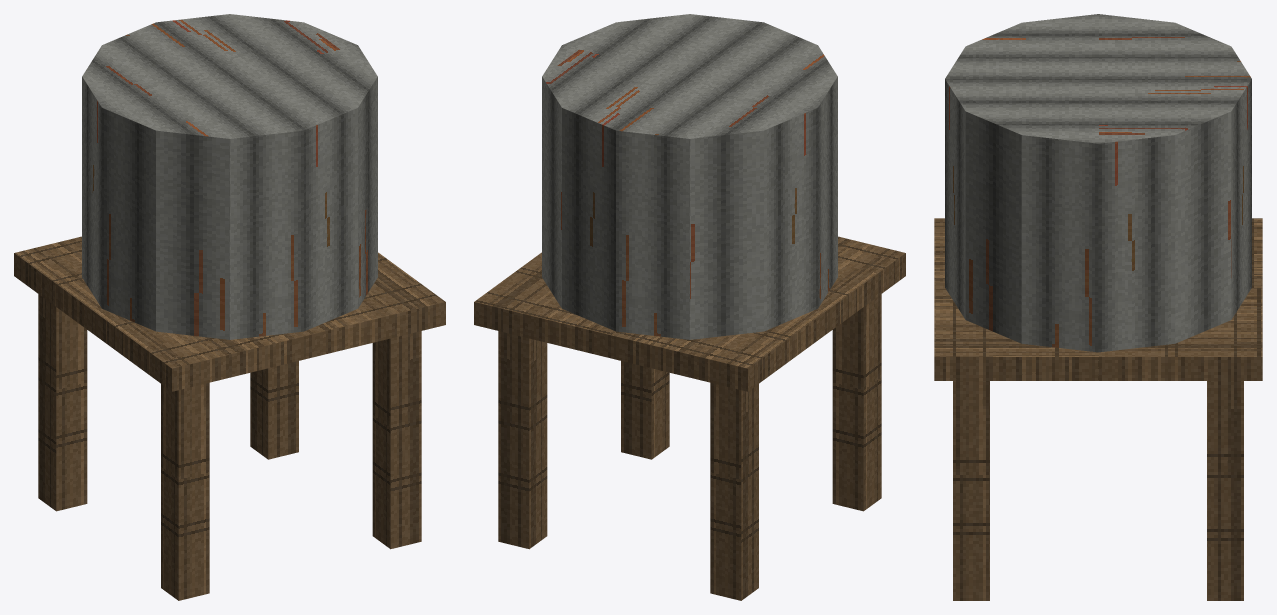
The model's file is fb_wash_drum.glb.
The picture shows the model from 3 angles, left to right: view 1: azimuth 30°, elevation 25°; view 2: azimuth 150°, elevation 25°; view 3: azimuth 270°, elevation 25°; orthographic projection. The views are drawn at different scales.
Visible parts, largest first — view 1: fb_wash_drum; view 2: fb_wash_drum; view 3: fb_wash_drum.
Part boxes in pixels (x1,y1,x2,y2): fb_wash_drum: [14, 14, 445, 600]; fb_wash_drum: [474, 14, 905, 600]; fb_wash_drum: [934, 14, 1262, 600].
Size of what is drawn, in the model's own units: 0.62 by 0.96 by 0.62.
Materials: 2 (2 with a texture image).
